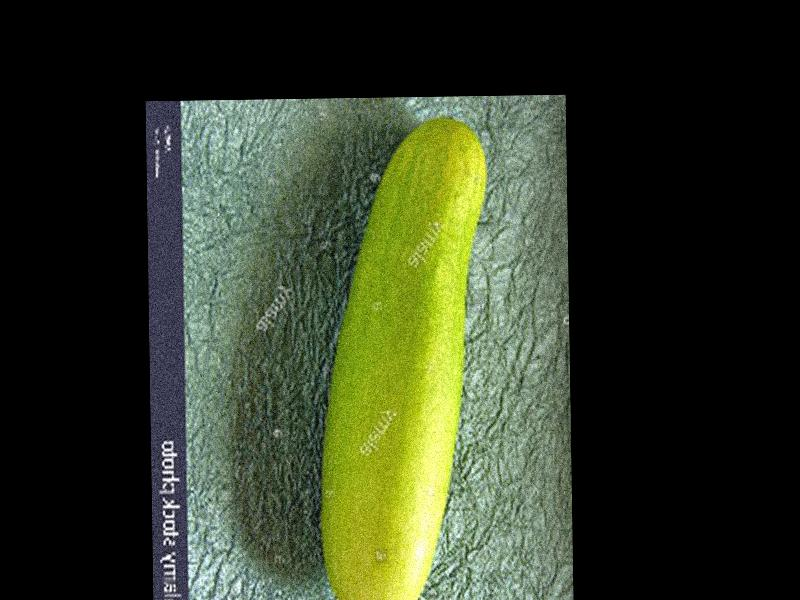Cucumber: (315, 115, 494, 600)
